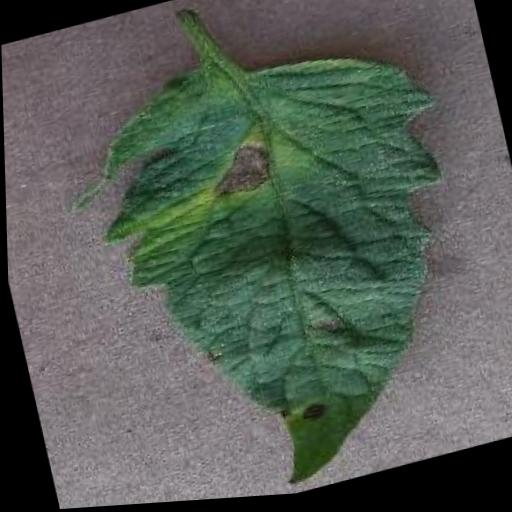Early Blight: (58, 17, 509, 509)
